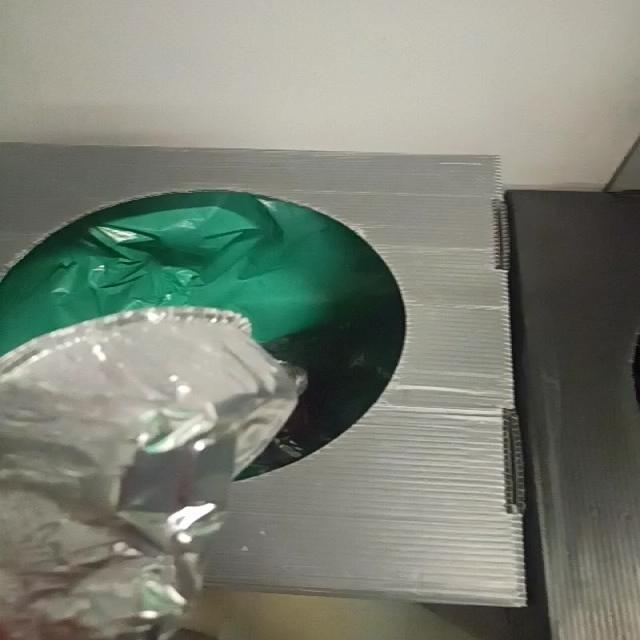bin: (3, 144, 525, 606)
metal: (1, 308, 305, 640)
